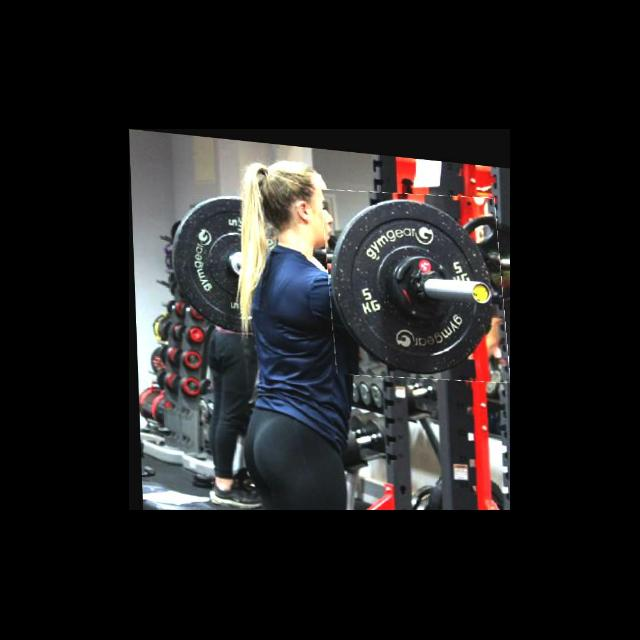barbell: (323, 179, 507, 381)
